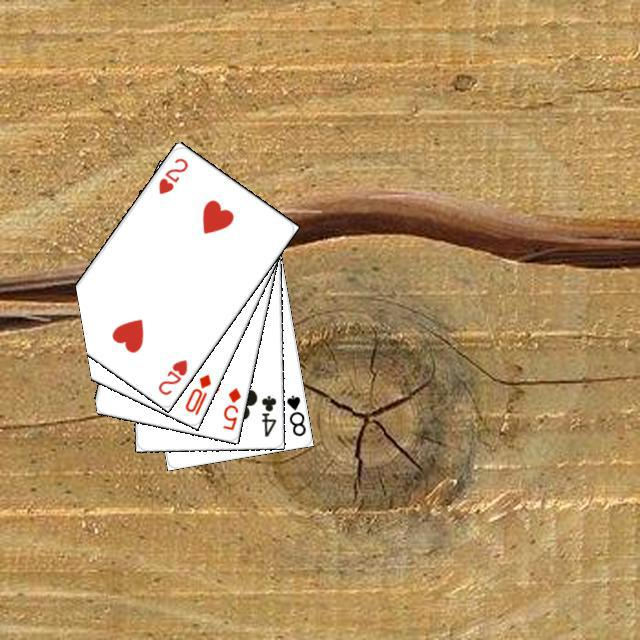10d: (180, 369, 213, 417)
2h: (153, 153, 190, 196), (153, 355, 189, 397)
4c: (257, 390, 278, 438)
5d: (218, 383, 243, 432)
8s: (282, 390, 307, 438)
